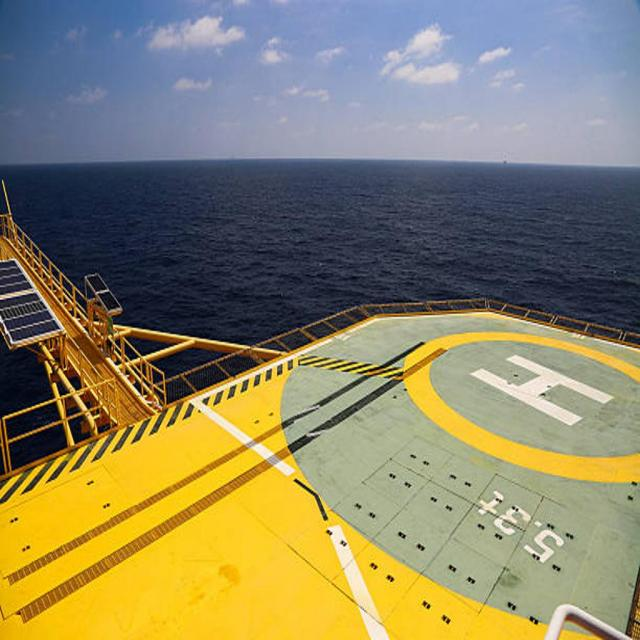helipad: (400, 330, 640, 484)
